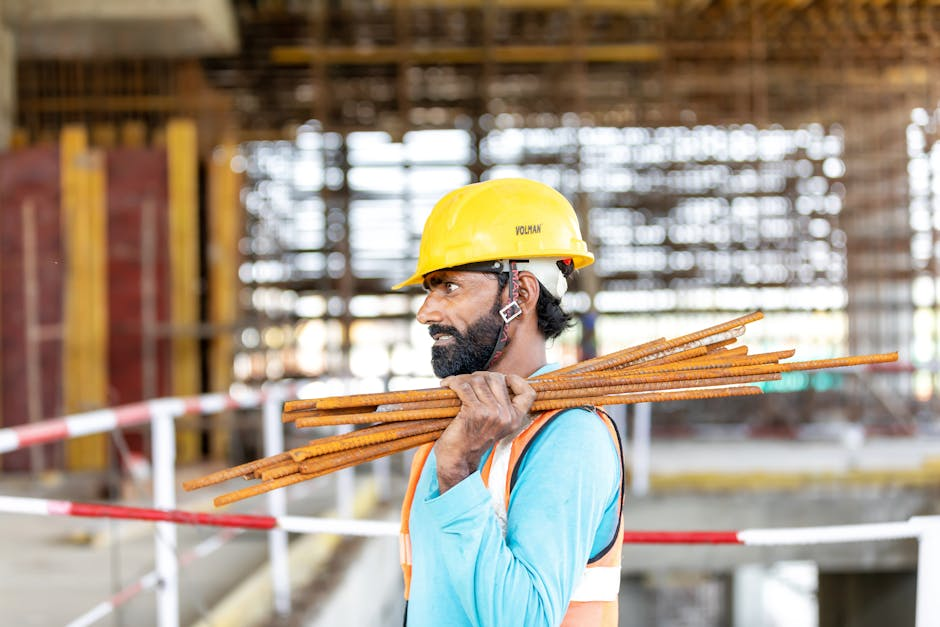safety_helmet: (390, 176, 596, 294)
